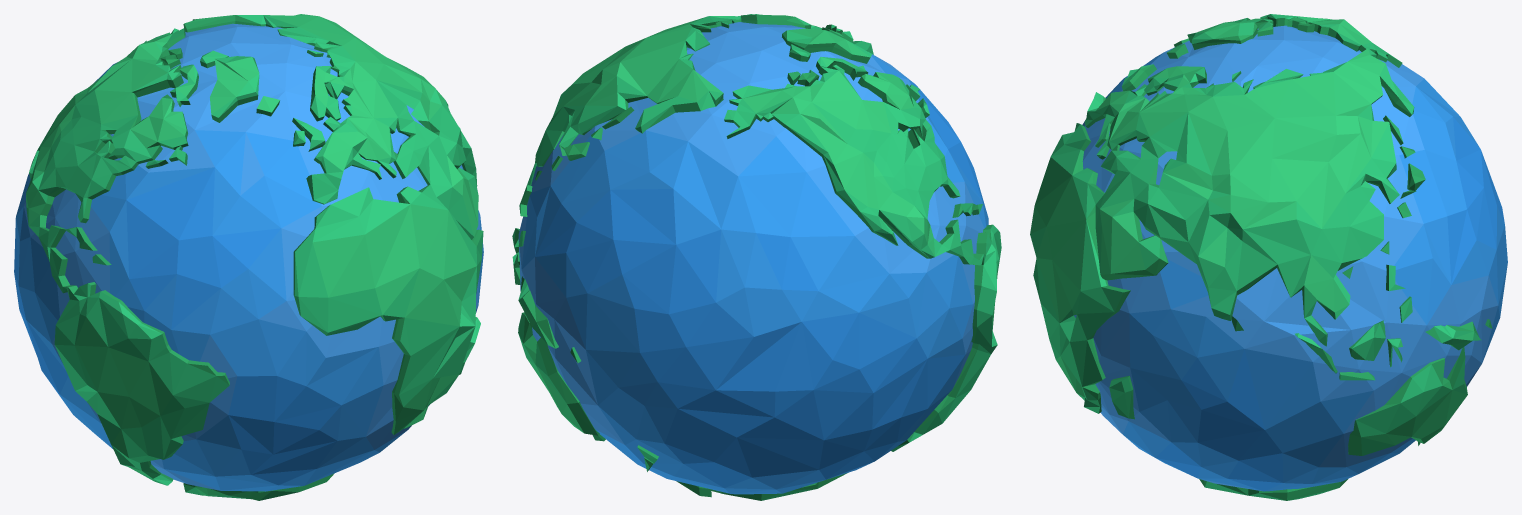
3 views of the same model, side by side, from view 1: azimuth 30°, elevation 25°; view 2: azimuth 150°, elevation 25°; view 3: azimuth 270°, elevation 25° (orthographic).
Parts seen in each view (by area): view 1: flatEarth_lands, flatEarth_sea; view 2: flatEarth_sea, flatEarth_lands; view 3: flatEarth_lands, flatEarth_sea.
Boxes of the visible parts, x1,y1,x2,y2 form: flatEarth_lands: (26, 14, 483, 500); flatEarth_sea: (14, 23, 483, 491); flatEarth_sea: (518, 22, 988, 494); flatEarth_lands: (512, 14, 1001, 500); flatEarth_lands: (1030, 14, 1492, 500); flatEarth_sea: (1074, 25, 1507, 491).
Size of the model in its own units: 1.55 by 1.55 by 1.54.
Materials: 1 (1 with a texture image).
